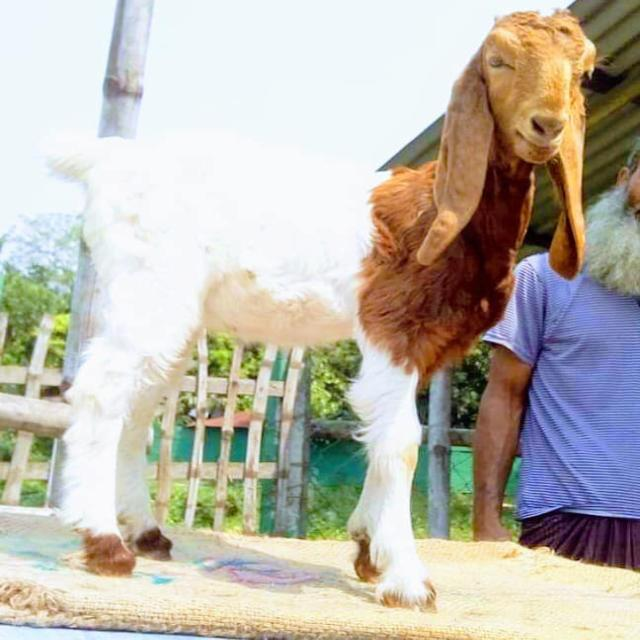Goat: (43, 6, 616, 613)
